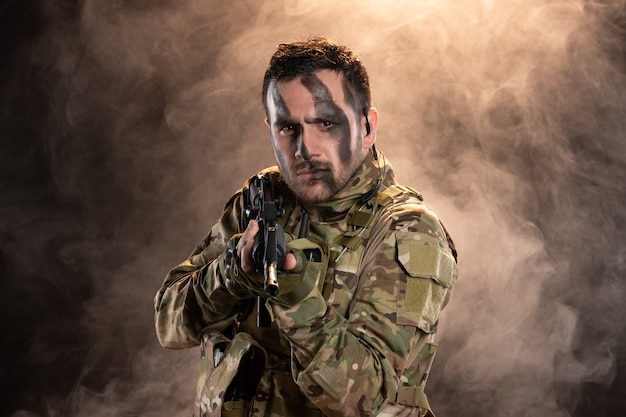gun: (243, 171, 287, 297)
